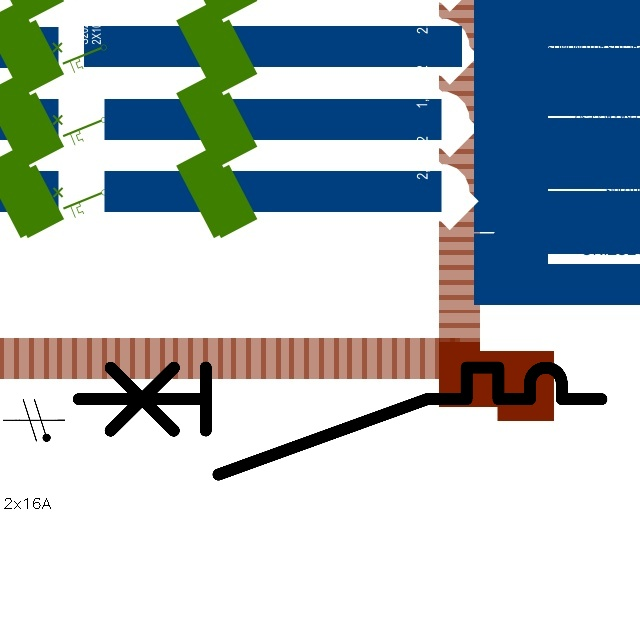interruptor_termomagnetico: (65, 354, 615, 488)
